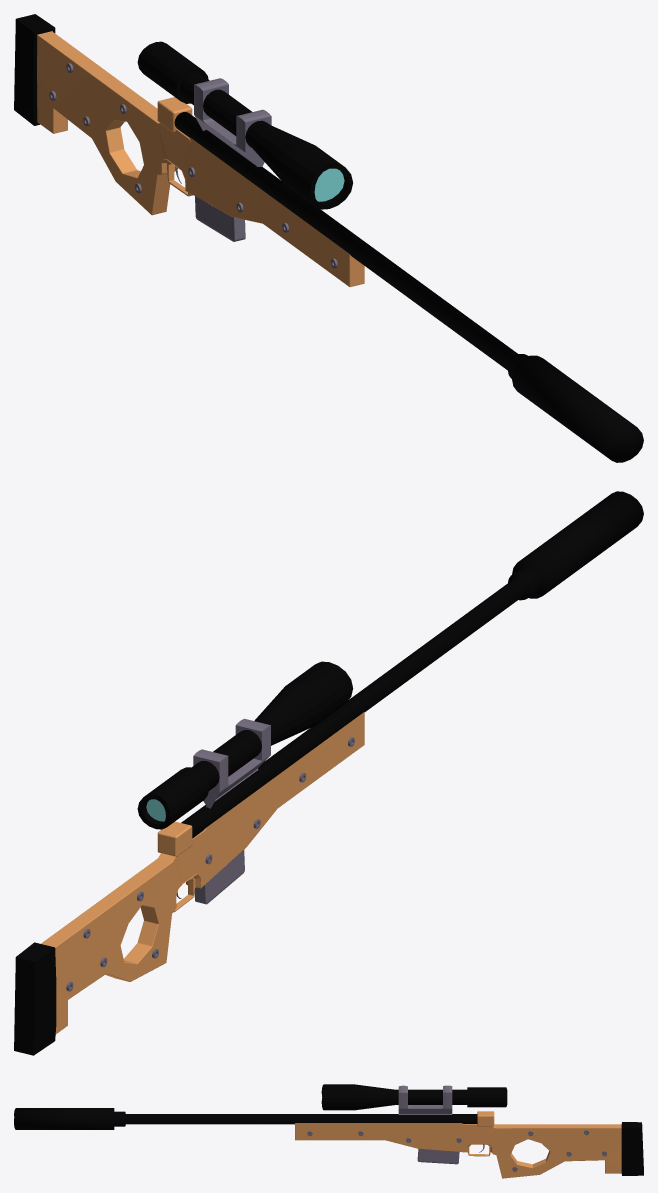
The model's file is SniperMonee.fbx.
3 views of the same model, one above another, from view 1: azimuth 30°, elevation 25°; view 2: azimuth 150°, elevation 25°; view 3: azimuth 270°, elevation 25° (orthographic). The views are drawn at different scales.
Visible parts, largest first — view 1: Base, Cylinder, Cylinder.001, Cube.003, Cube.002; view 2: Base, Cylinder, Cylinder.001, Cube.003, Cube.002; view 3: Base, Cylinder, Cylinder.001, Cube.003, Cube.002.
Boxes of the visible parts, left/top/right/bottom form: Base: left=14, top=14, right=364, bottom=286; Cylinder: left=174, top=112, right=643, bottom=462; Cylinder.001: left=137, top=41, right=352, bottom=209; Cube.003: left=194, top=78, right=271, bottom=166; Cube.002: left=195, top=196, right=245, bottom=241; Base: left=14, top=712, right=364, bottom=1055; Cylinder: left=181, top=491, right=643, bottom=838; Cylinder.001: left=137, top=661, right=353, bottom=829; Cube.003: left=193, top=718, right=270, bottom=808; Cube.002: left=194, top=849, right=244, bottom=904; Base: left=295, top=1111, right=643, bottom=1178; Cylinder: left=14, top=1108, right=477, bottom=1129; Cylinder.001: left=321, top=1084, right=507, bottom=1110; Cube.003: left=398, top=1085, right=452, bottom=1114; Cube.002: left=417, top=1149, right=459, bottom=1164.
Bounding box in the file's own units: 0.2407 × 0.9304 × 5.82.
